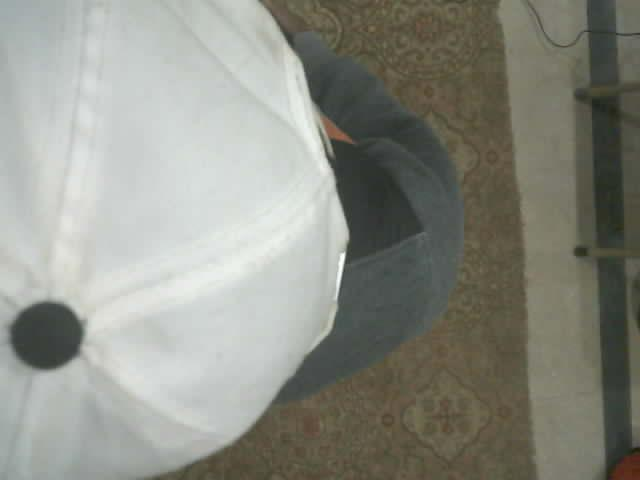cap: (0, 0, 464, 479)
